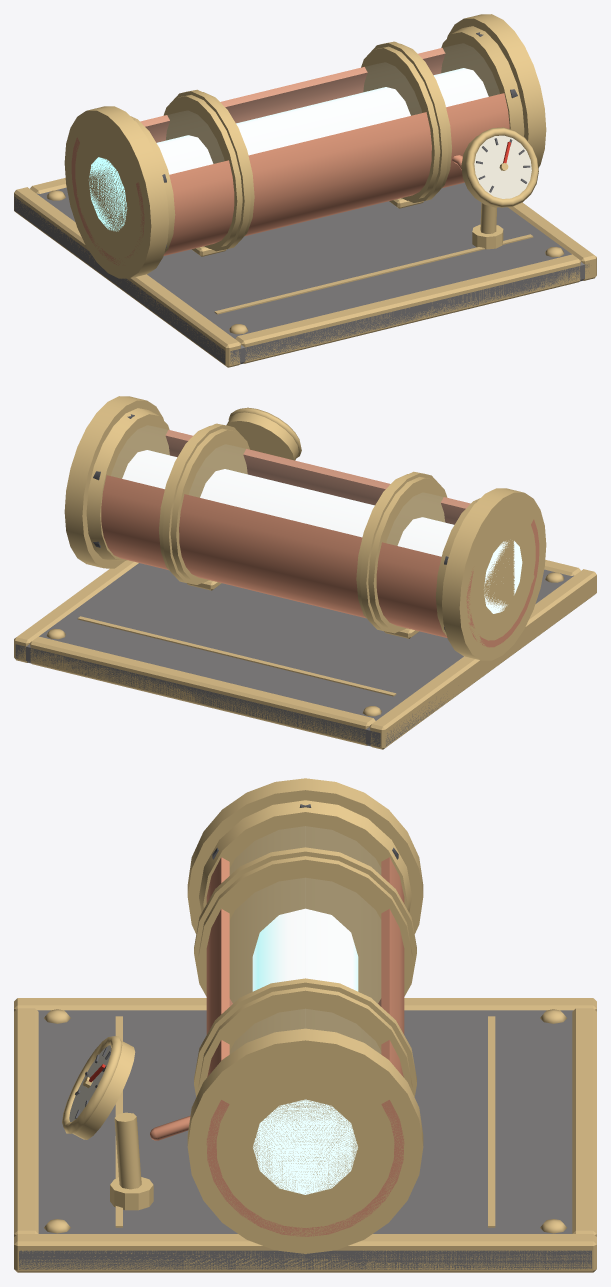
File: pipe_straight.glb
3 views of the same model, one above another, from view 1: azimuth 30°, elevation 25°; view 2: azimuth 150°, elevation 25°; view 3: azimuth 270°, elevation 25° (orthographic). The views are drawn at different scales.
Visible parts, largest first — view 1: pipe_straight, glow_path; view 2: pipe_straight, glow_path; view 3: pipe_straight, glow_path.
Boxes of the visible parts, box(x1,y1,x2,y2) form: pipe_straight: box(14, 14, 596, 367); glow_path: box(89, 68, 488, 231); pipe_straight: box(14, 396, 596, 749); glow_path: box(122, 450, 522, 613); pipe_straight: box(14, 778, 596, 1272); glow_path: box(252, 908, 358, 1194).
Size of the model in its own units: 1 by 0.43 by 0.94.
